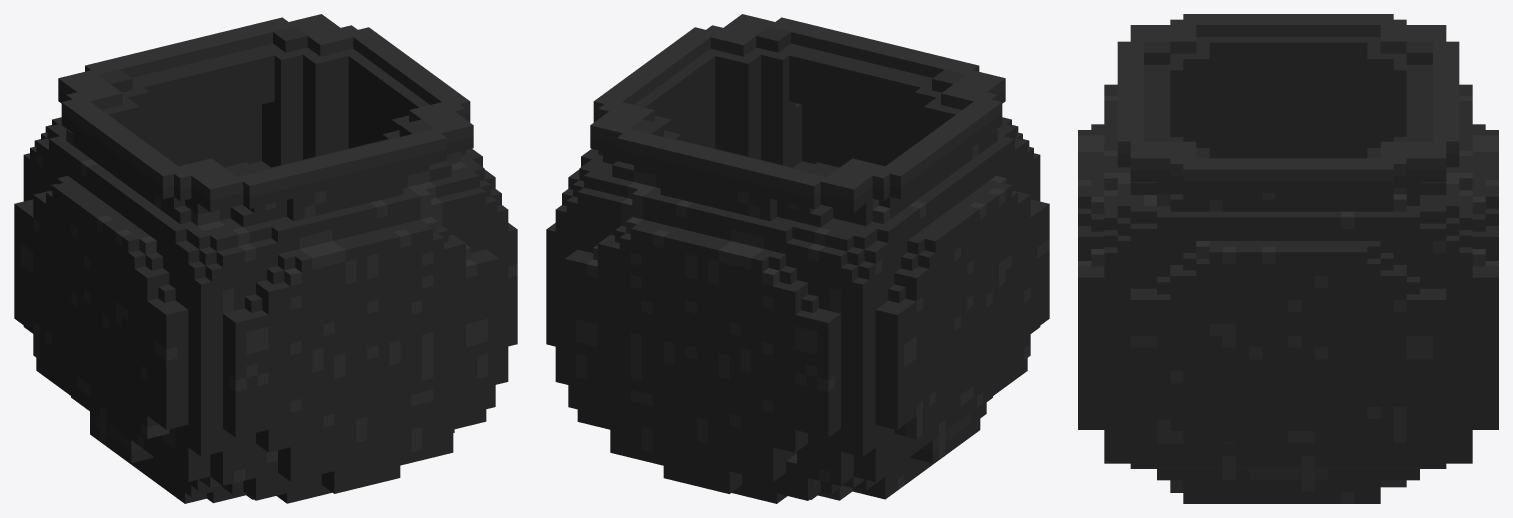
File: Cauldronx16-0-Cauldronx16.obj
3 renders of one model, left to right at view 1: azimuth 30°, elevation 25°; view 2: azimuth 150°, elevation 25°; view 3: azimuth 270°, elevation 25°, orthographic. The views are drawn at different scales.
Parts seen in each view (by area): view 1: Cauldronx16; view 2: Cauldronx16; view 3: Cauldronx16.
Part boxes in pixels (x1,y1,x2,y2): Cauldronx16: [14, 14, 517, 503]; Cauldronx16: [546, 14, 1049, 503]; Cauldronx16: [1078, 14, 1498, 503].
Size of the model in its own units: 3.2 by 2.9 by 3.2.
Materials: 1 (1 with a texture image).
